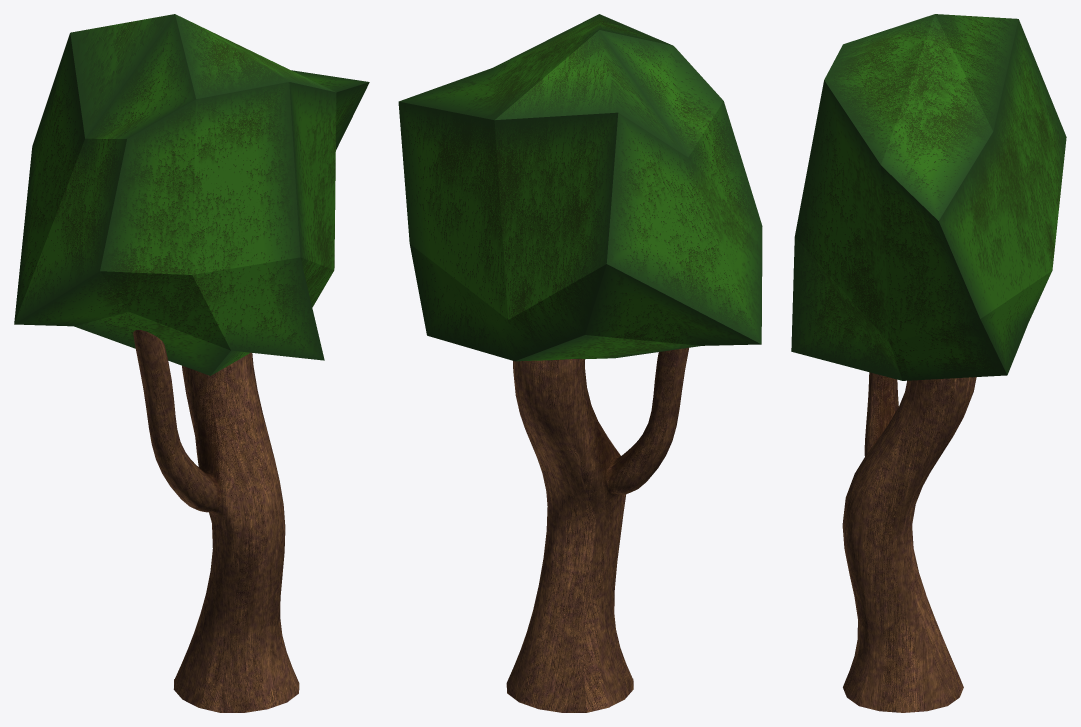
Rendered from treeA.glb.
3 renders of one model, left to right at view 1: azimuth 30°, elevation 25°; view 2: azimuth 150°, elevation 25°; view 3: azimuth 270°, elevation 25°, orthographic. The views are drawn at different scales.
Parts seen in each view (by area): view 1: leaf1, tree1; view 2: leaf1, tree1; view 3: leaf1, tree1.
Part boxes in pixels (x1=…): leaf1: x1=14, y1=14, x2=369, y2=375; tree1: x1=133, y1=330, x2=299, y2=712; leaf1: x1=398, y1=14, x2=762, y2=361; tree1: x1=506, y1=348, x2=688, y2=712; leaf1: x1=791, y1=14, x2=1066, y2=380; tree1: x1=842, y1=372, x2=976, y2=712.
Size of the model in its own units: 2.91 by 5.23 by 2.
Materials: 2 (2 with a texture image).
